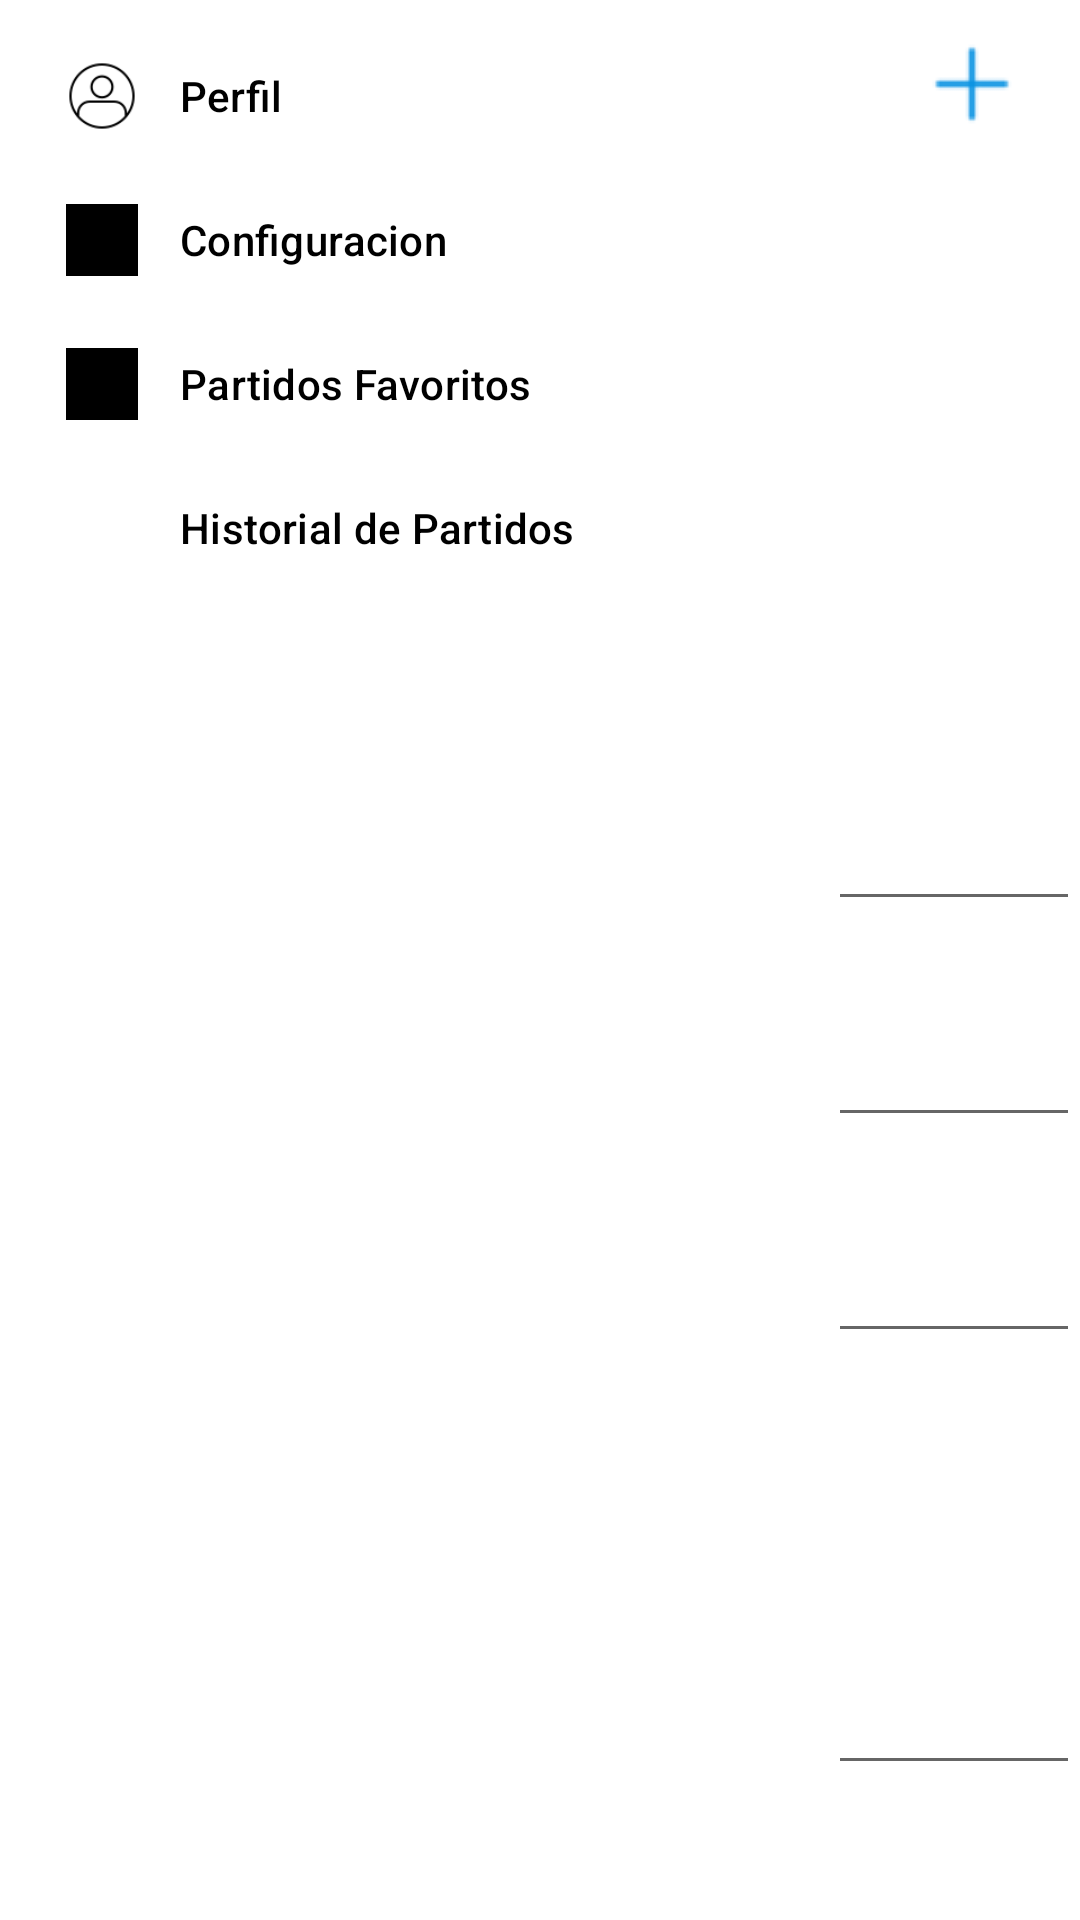

Named icons in this screenshot (1080x1920) and their centers, point (x, y):
add: point (972, 84)
